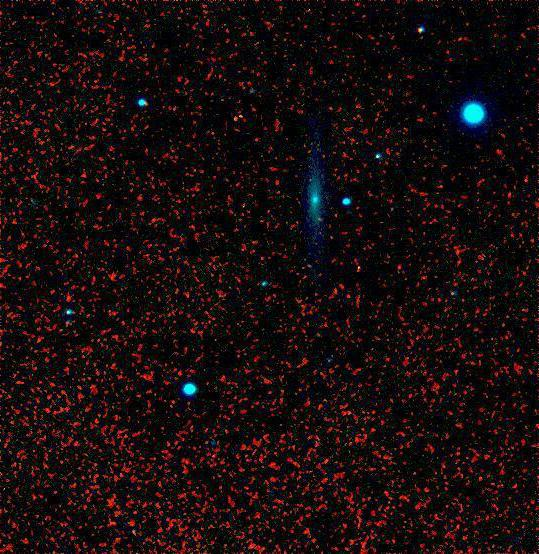star: (304, 204, 334, 234)
